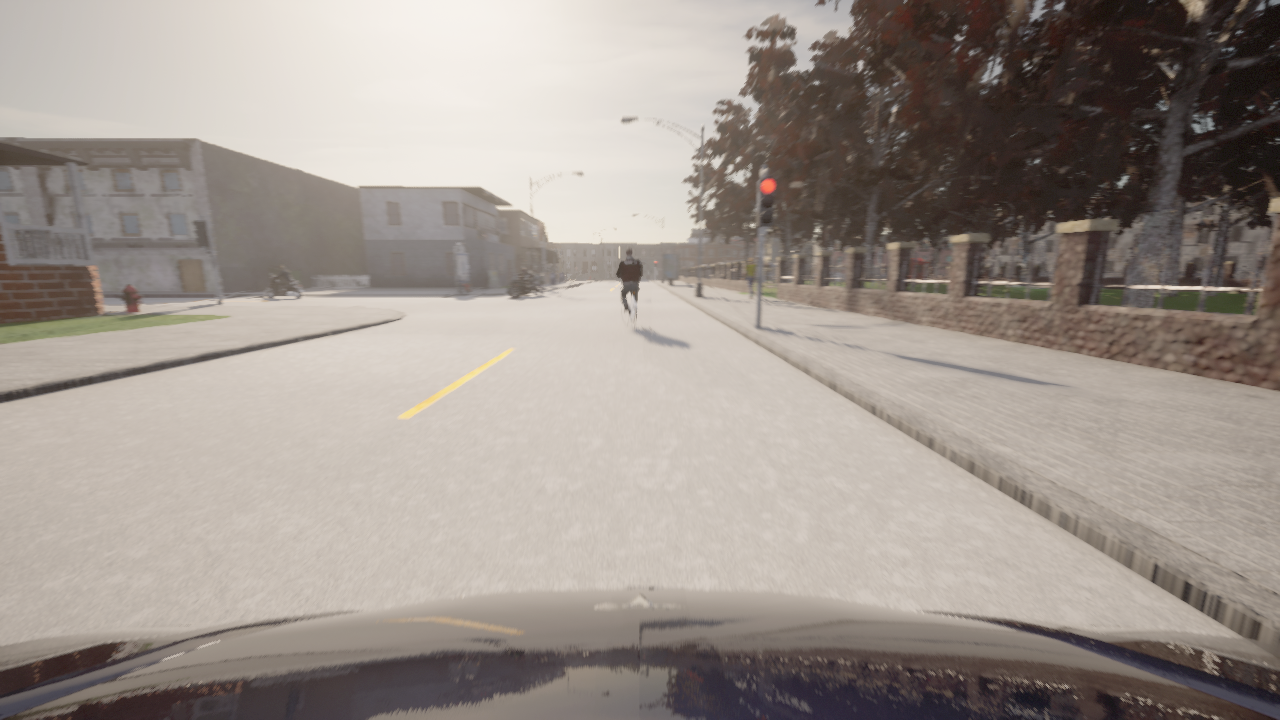cyclist: (0, 588, 1279, 719), (266, 273, 303, 298), (507, 273, 544, 297), (621, 292, 635, 330)
pedestrian: (741, 257, 756, 299)
